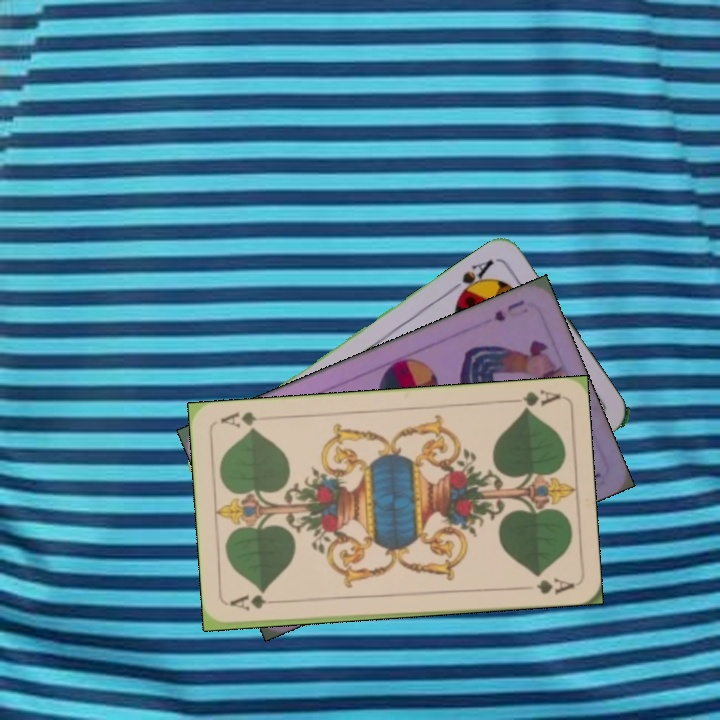GA: (503, 385, 562, 414), (226, 591, 286, 613)
SA: (446, 255, 497, 302)
SU: (490, 295, 528, 324)
